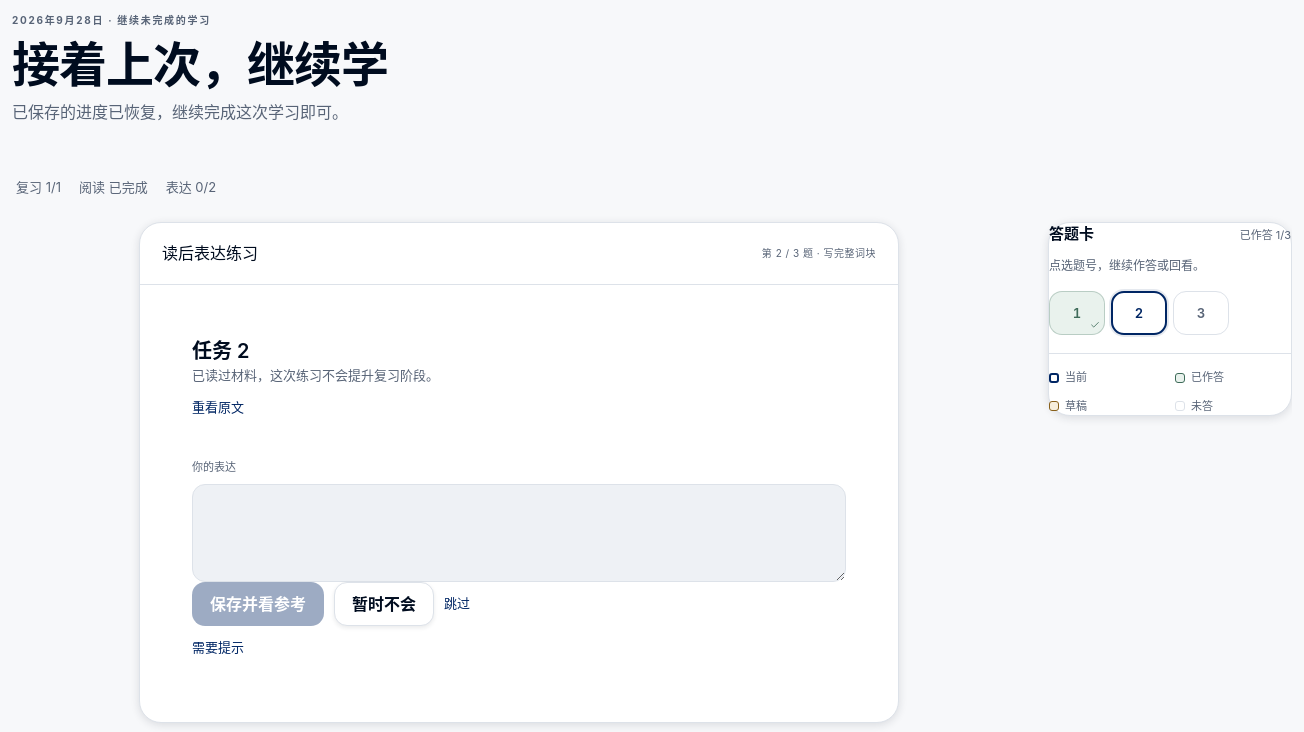
Test: lesson phases and evidence › permits jumping between expressions only after reading is complete
Expected: the heading "任务 2" is shown, x1=192 y1=338 x2=250 y2=362
What coordinates should you click on to do the following:
click the button named "第 3 题 · 未答"
I would click on:
 (1201, 314)
Its box is x1=1173 y1=292 x2=1229 y2=336.
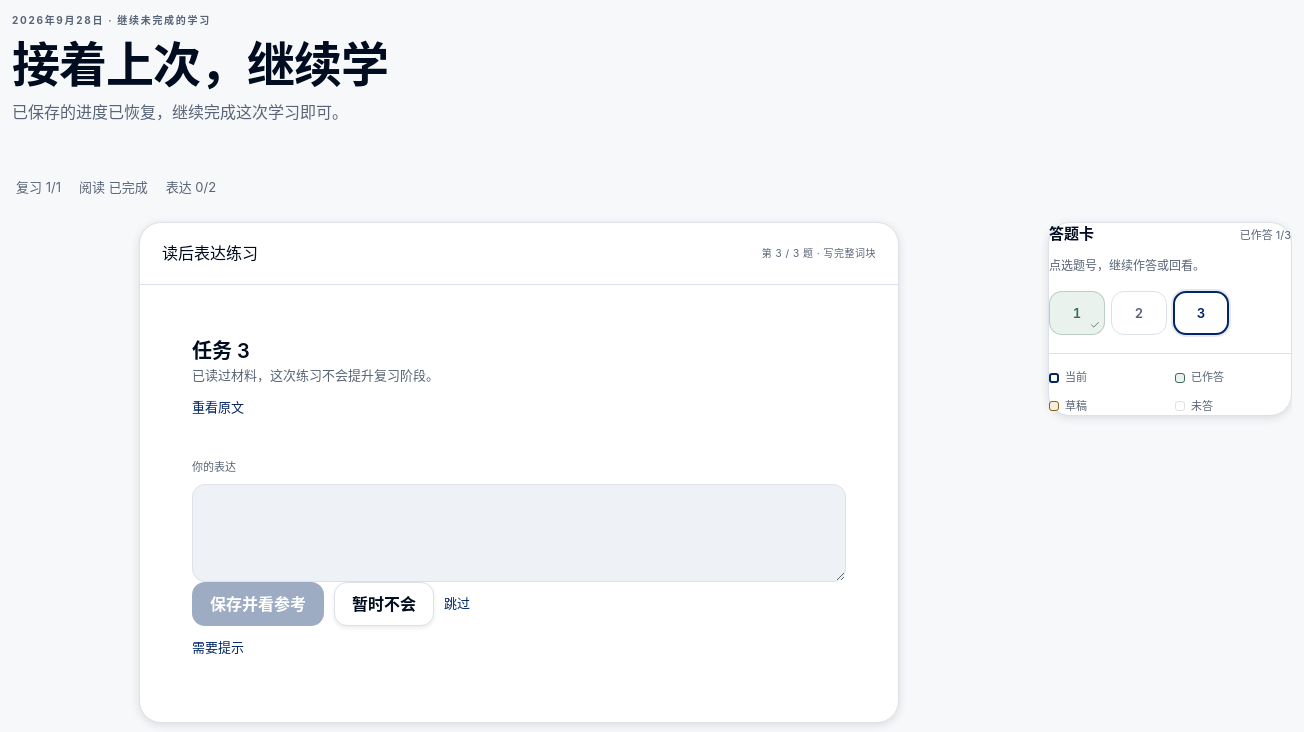
Expected: the heading "任务 3" is shown, x1=192 y1=338 x2=250 y2=362
What coordinates should you click on to do the following:
click the button named "第 1 题 · 已作答"
I would click on:
 (1077, 314)
Its box is x1=1049 y1=292 x2=1105 y2=336.
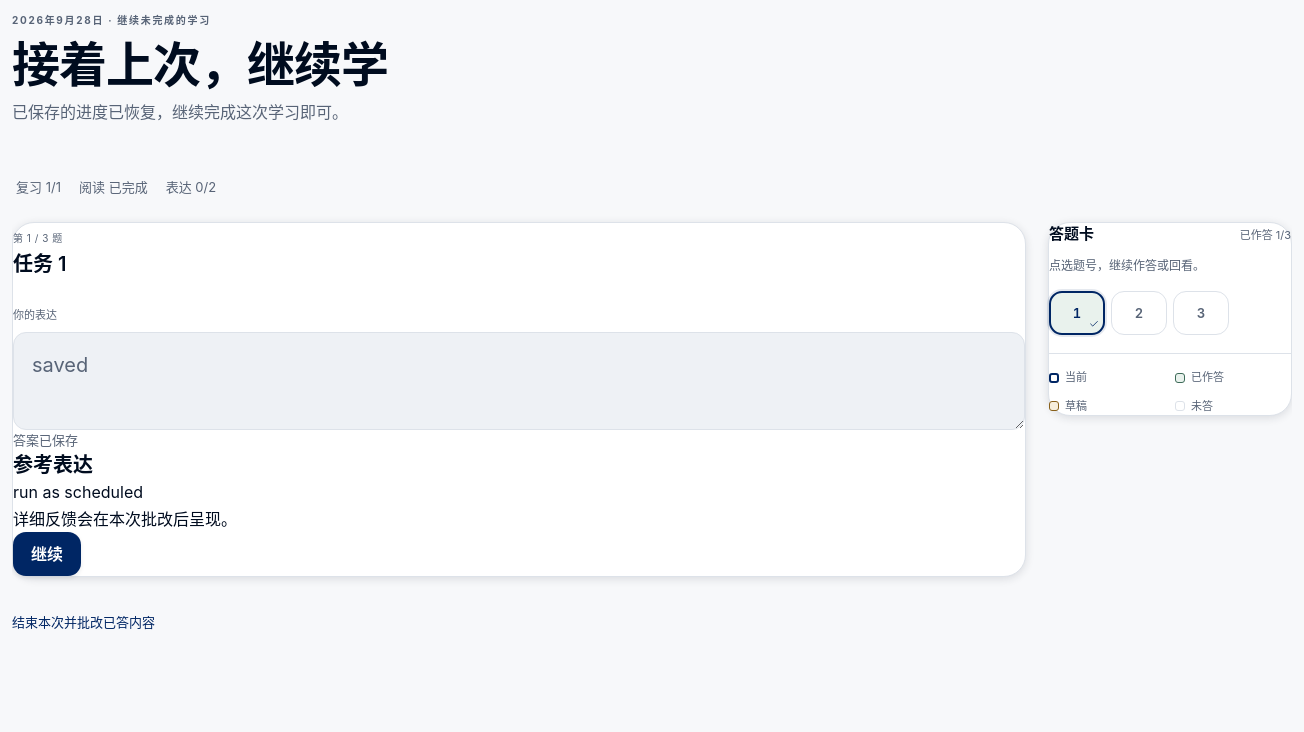
Expected: the heading "参考表达" is shown, x1=13 y1=453 x2=93 y2=477
Expected: the button "继续" is enabled
What coordinates should you click on to do the following:
click the button "继续"
I would click on:
 (47, 554)
Its box is x1=13 y1=532 x2=81 y2=576.
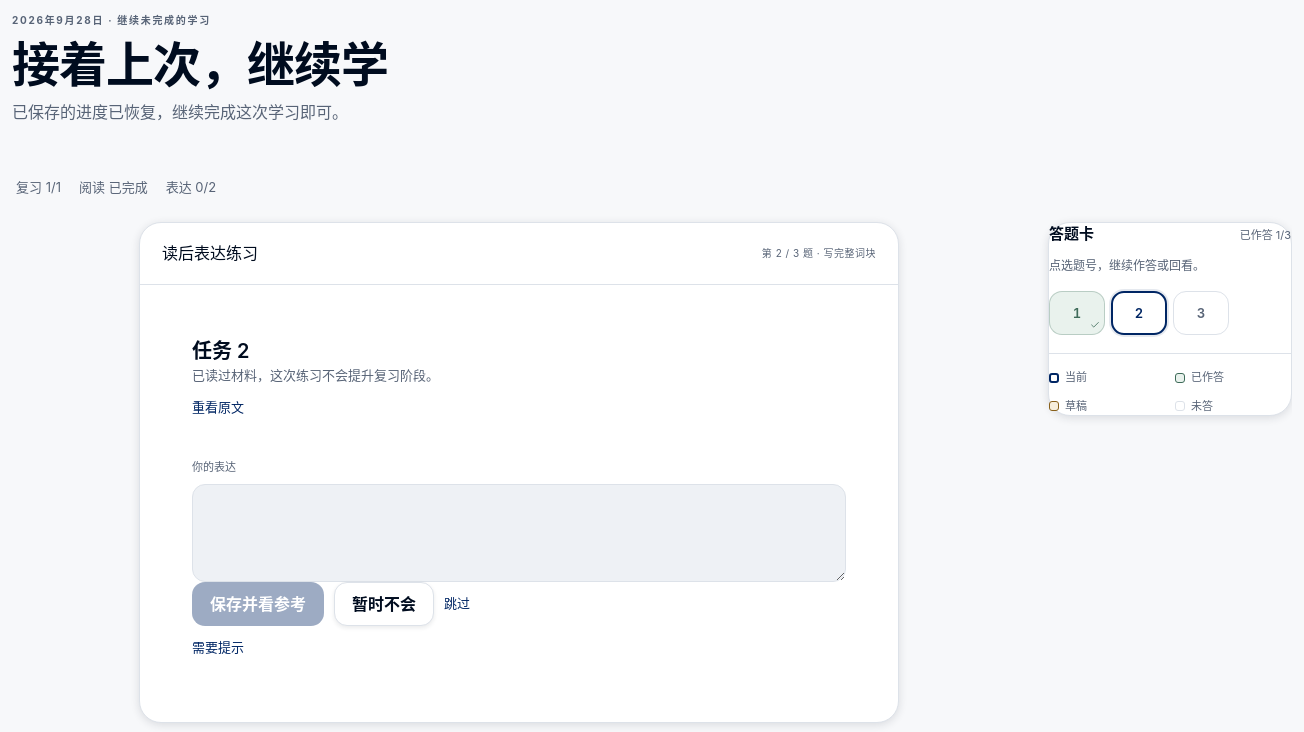
Expected: the heading "任务 2" is shown, x1=192 y1=338 x2=250 y2=362
